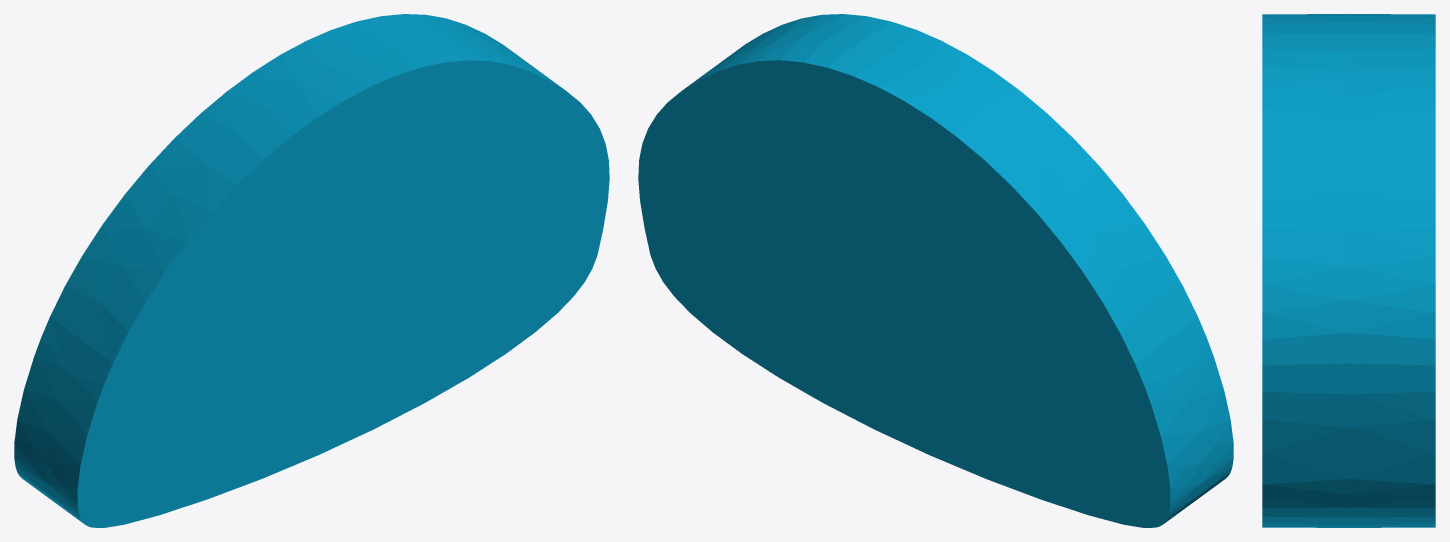
The model's file is my_contour2.obj.
3 renders of one model, left to right at view 1: azimuth 30°, elevation 25°; view 2: azimuth 150°, elevation 25°; view 3: azimuth 270°, elevation 25°, orthographic. The views are drawn at different scales.
Visible parts, largest first — view 1: Body; view 2: Body; view 3: Body.
Part boxes in pixels (x1,y1,x2,y2): Body: (14, 14, 609, 527); Body: (638, 14, 1233, 527); Body: (1262, 14, 1435, 527).
Size of the model in its own units: 486 by 336 by 100.
